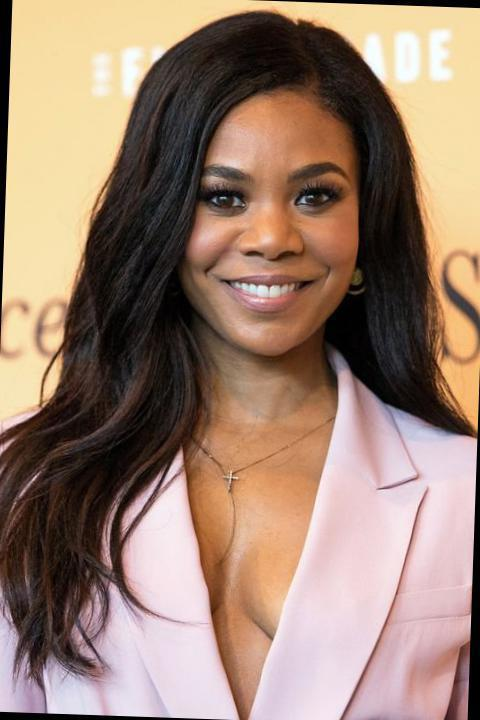Sober: (196, 112, 351, 329)
